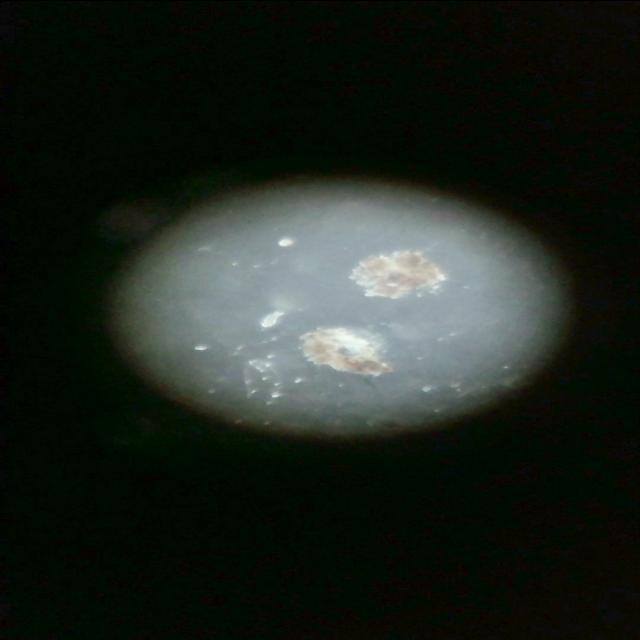alexandrium: (284, 323, 394, 375), (356, 249, 446, 303)
